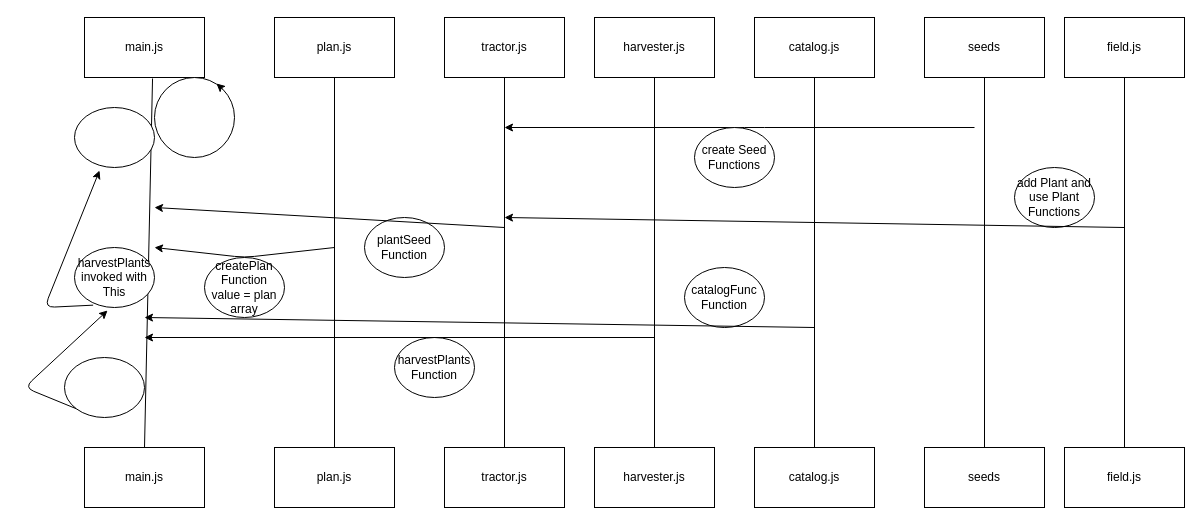
This 1202x525 diagram has some shape labels left out. The box of each missing label's shape, as (x1, y1, x2, y2) in pixels:
catalogFunc invoked with This: (64, 356, 144, 418)
innerHtml: (154, 76, 234, 158)
plantSeed Function invoked with createPlan: (74, 106, 154, 168)
